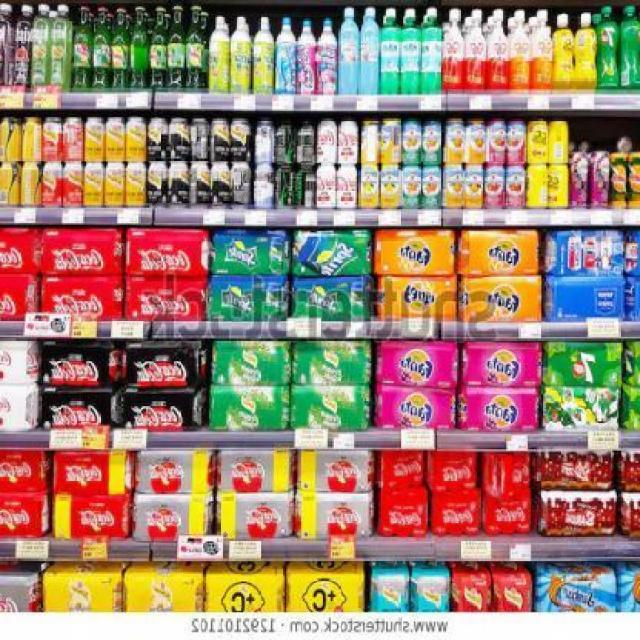Drinks: (120, 340, 208, 388), (125, 228, 209, 276), (40, 227, 124, 275), (456, 229, 539, 277), (373, 228, 456, 276), (42, 274, 125, 322), (291, 229, 373, 277), (210, 226, 292, 274), (41, 339, 123, 387), (459, 276, 542, 322), (125, 276, 208, 322), (376, 276, 458, 322), (375, 342, 459, 386), (38, 386, 120, 430), (292, 278, 374, 322), (208, 275, 290, 319), (541, 342, 623, 386), (458, 389, 540, 433), (135, 495, 213, 541), (217, 493, 295, 539), (375, 388, 457, 431), (124, 388, 204, 432), (462, 342, 542, 386), (53, 495, 133, 538), (542, 390, 620, 433), (295, 493, 373, 536), (53, 450, 131, 493), (136, 450, 214, 493), (219, 450, 296, 493), (298, 450, 374, 493), (380, 490, 428, 538), (431, 491, 482, 535), (1, 449, 49, 493), (1, 495, 49, 538), (597, 5, 620, 89), (427, 452, 479, 488), (378, 450, 426, 488), (485, 498, 531, 534)
